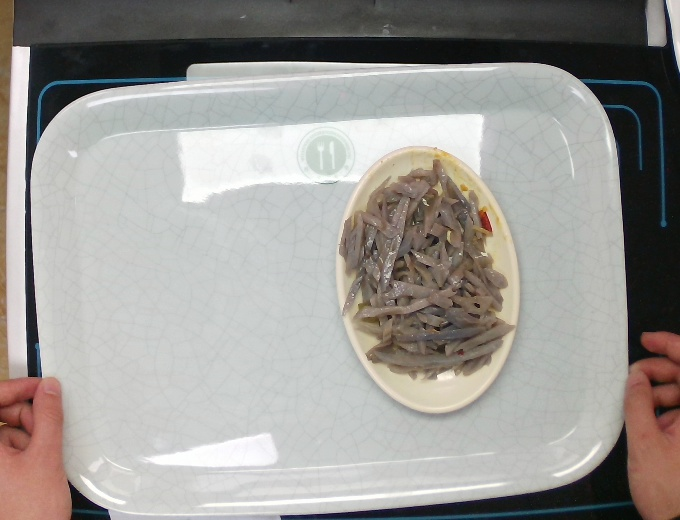JYsf-Tuo_Yuan_Wan: (333, 143, 523, 416)
